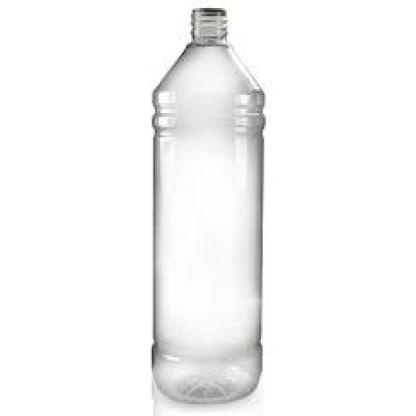trash: (153, 8, 263, 402)
